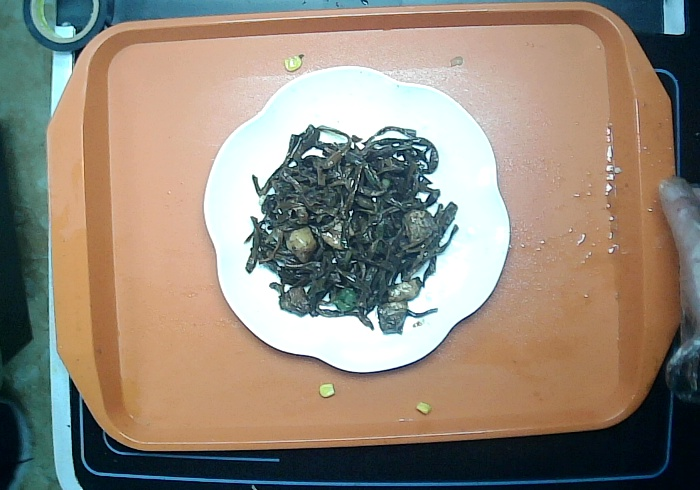HZYJPL-Bai_Se_Hua_Duo_Wan: (200, 63, 511, 373)
